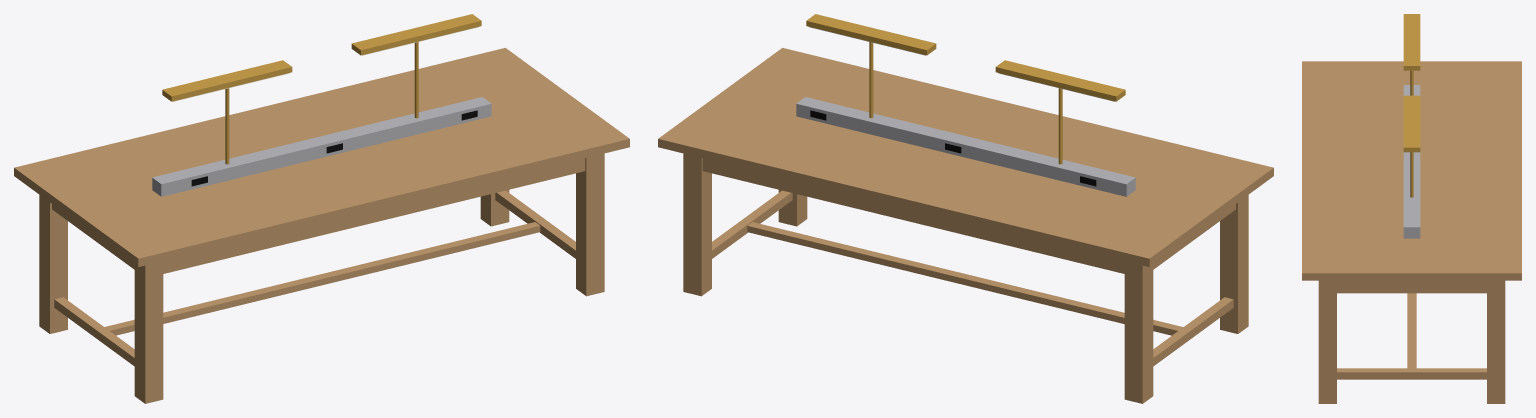
The model's file is 073_library_reading_table_6_seat.glb.
The picture shows the model from 3 angles, left to right: view 1: azimuth 30°, elevation 25°; view 2: azimuth 150°, elevation 25°; view 3: azimuth 270°, elevation 25°; orthographic projection. The views are drawn at different scales.
Parts seen in each view (by area): view 1: 019_table_top, 020_centre_power_rail, 009_table_apron_front, 018_table_stretcher_centre, 002_table_leg, 003_table_leg, 000_table_leg, 031_task_light_bar, 028_task_light_bar, 016_table_stretcher_l, 017_table_stretcher_r, 001_table_leg; view 2: 019_table_top, 020_centre_power_rail, 008_table_apron_back, 018_table_stretcher_centre, 000_table_leg, 001_table_leg, 002_table_leg, 031_task_light_bar, 028_task_light_bar, 016_table_stretcher_l, 017_table_stretcher_r, 003_table_leg; view 3: 019_table_top, 001_table_leg, 003_table_leg, 011_table_apron_r, 017_table_stretcher_r, 020_centre_power_rail, 031_task_light_bar, 028_task_light_bar, 018_table_stretcher_centre.
Part boxes in pixels (left/top/right/bottom): 019_table_top: left=14, top=48, right=629, bottom=266; 020_centre_power_rail: left=152, top=97, right=491, bottom=196; 009_table_apron_front: left=163, top=158, right=585, bottom=273; 018_table_stretcher_centre: left=104, top=222, right=540, bottom=335; 002_table_leg: left=134, top=261, right=163, bottom=403; 003_table_leg: left=576, top=153, right=604, bottom=296; 000_table_leg: left=39, top=195, right=67, bottom=333; 031_task_light_bar: left=351, top=14, right=481, bottom=55; 028_task_light_bar: left=162, top=60, right=292, bottom=101; 016_table_stretcher_l: left=54, top=297, right=134, bottom=366; 017_table_stretcher_r: left=495, top=190, right=575, bottom=258; 001_table_leg: left=480, top=190, right=509, bottom=226; 019_table_top: left=658, top=48, right=1273, bottom=266; 020_centre_power_rail: left=796, top=97, right=1135, bottom=196; 008_table_apron_back: left=702, top=158, right=1124, bottom=273; 018_table_stretcher_centre: left=747, top=222, right=1183, bottom=335; 000_table_leg: left=1124, top=261, right=1153, bottom=403; 001_table_leg: left=683, top=153, right=711, bottom=296; 002_table_leg: left=1220, top=195, right=1248, bottom=333; 031_task_light_bar: left=806, top=14, right=936, bottom=55; 028_task_light_bar: left=995, top=60, right=1125, bottom=101; 016_table_stretcher_l: left=1153, top=297, right=1233, bottom=366; 017_table_stretcher_r: left=712, top=190, right=792, bottom=258; 003_table_leg: left=778, top=190, right=807, bottom=226; 019_table_top: left=1302, top=61, right=1521, bottom=280; 001_table_leg: left=1487, top=280, right=1505, bottom=403; 003_table_leg: left=1318, top=280, right=1336, bottom=403; 011_table_apron_r: left=1337, top=280, right=1486, bottom=293; 017_table_stretcher_r: left=1337, top=368, right=1486, bottom=379; 020_centre_power_rail: left=1403, top=85, right=1420, bottom=238; 031_task_light_bar: left=1403, top=95, right=1420, bottom=152; 028_task_light_bar: left=1403, top=14, right=1420, bottom=70; 018_table_stretcher_centre: left=1407, top=293, right=1416, bottom=368.
Bounding box in the file's own units: 2.44 × 1.21 × 1.07.
